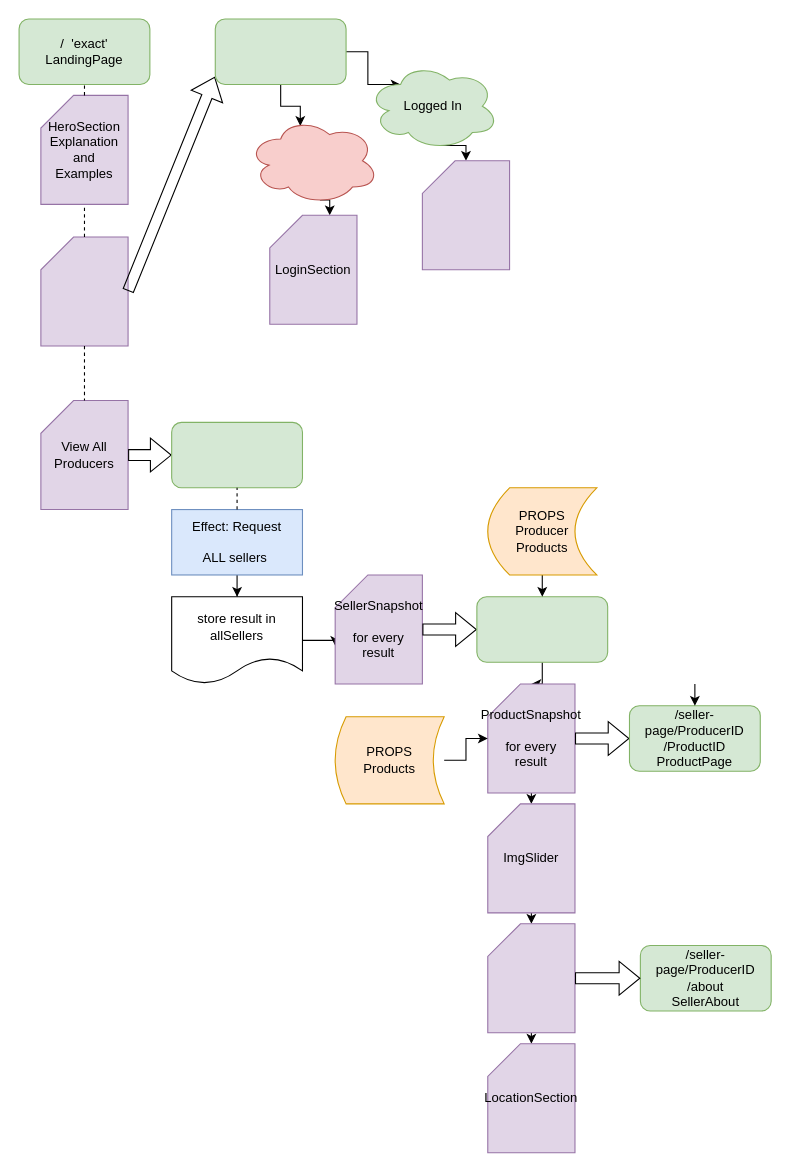
The diagram is 790 pixels wide and 1172 high, and some of its shapes have lost their labels. The centre of each missing label's shape, as x and y in pixels:
/all-sellers AllSellers: pixel 236 454
/new-seller NewSeller: pixel 280 51
/seller-page/ProducerID SellerPage: pixel 542 629
ButtonElement About: pixel 531 978
Create a Seller Page: pixel 84 291
CreateNewSeller: pixel 465 215
Not Logged In: pixel 313 160
